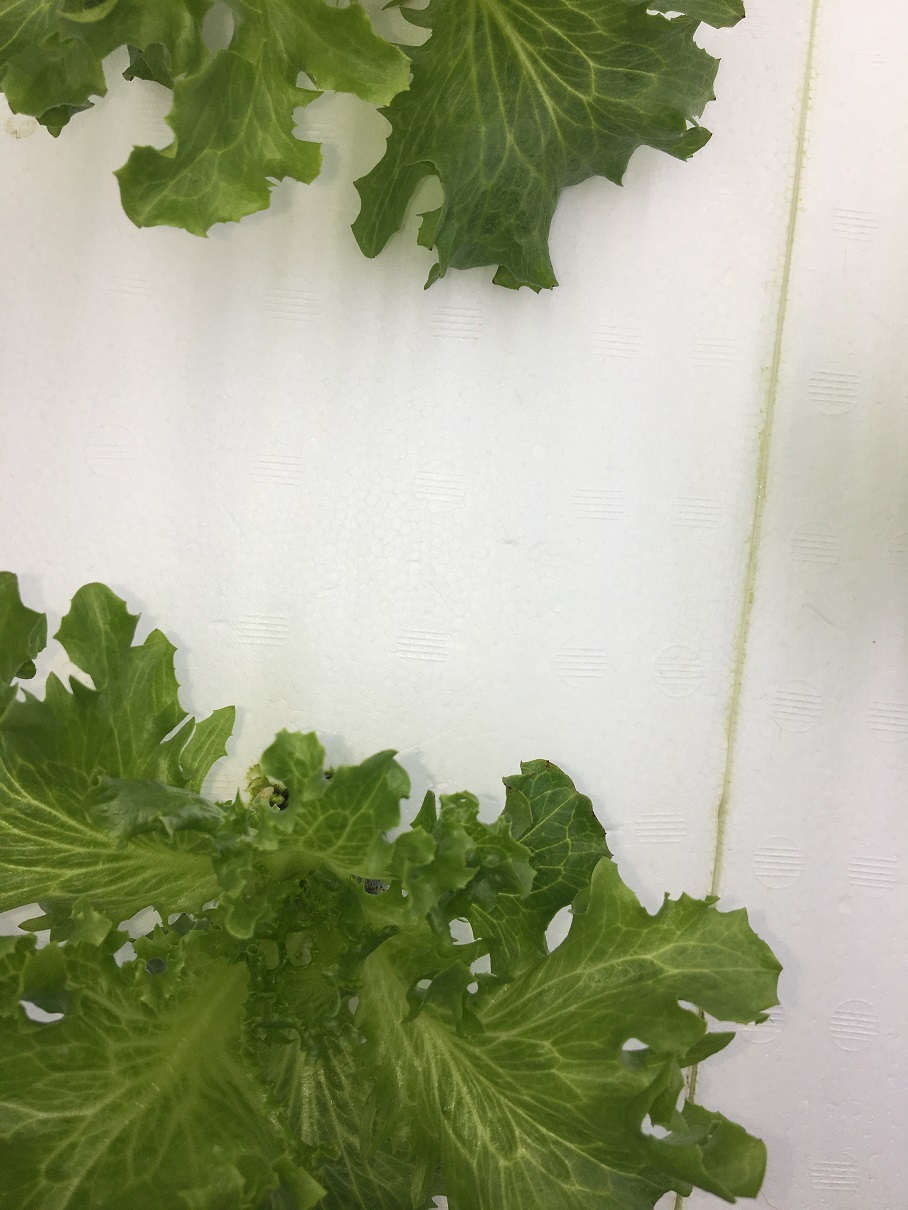tipburn: (116, 64, 143, 92), (705, 85, 726, 108), (420, 235, 442, 256), (483, 268, 503, 291), (541, 751, 561, 771), (585, 803, 604, 822), (740, 6, 758, 26)
